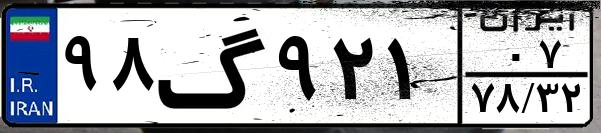0: (508, 27, 537, 80)
1: (385, 28, 445, 110)
2: (330, 28, 385, 110), (560, 70, 590, 125)
3: (535, 70, 560, 125)
7: (537, 27, 568, 80), (470, 70, 495, 125)
8: (110, 28, 156, 98), (495, 70, 520, 125)
9: (270, 28, 330, 110), (57, 26, 110, 100)
گ: (156, 12, 270, 120)
